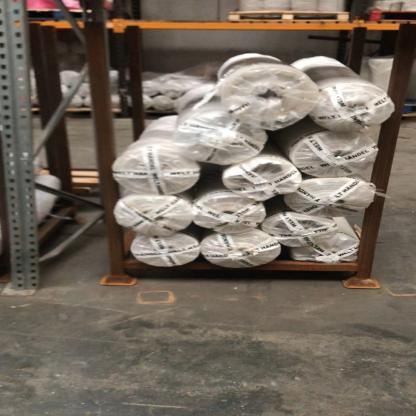vertical_damage: (5, 262, 46, 302)
